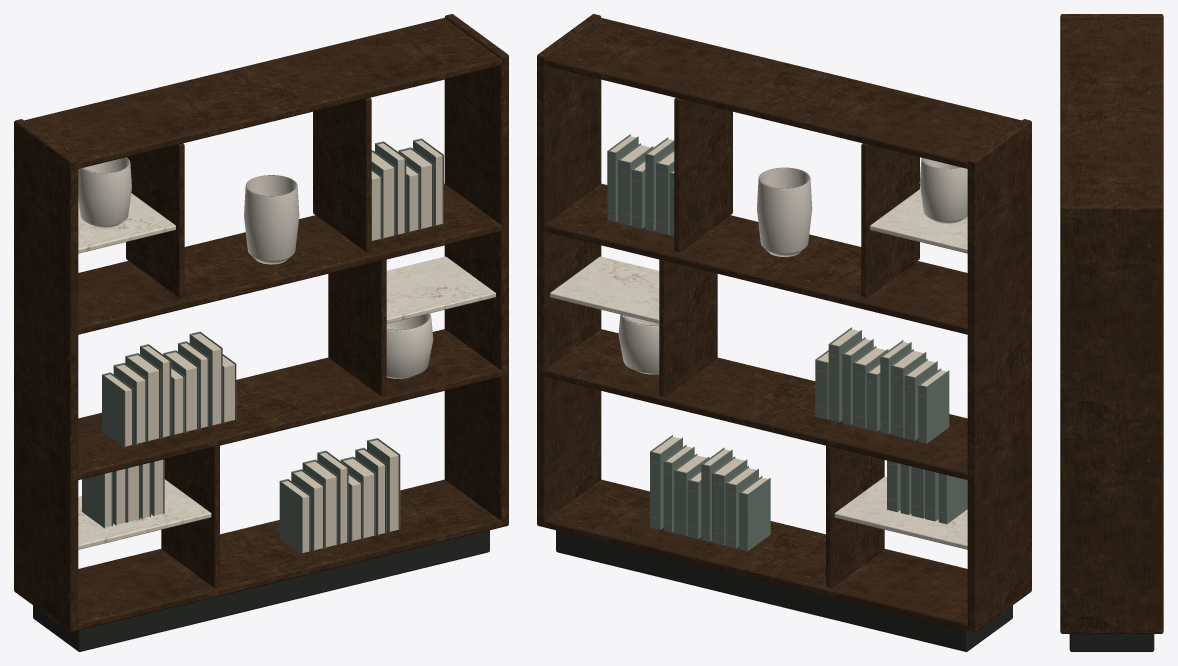
File: atelier-step-bookcase.glb
3 views of the same model, side by side, from view 1: azimuth 30°, elevation 25°; view 2: azimuth 150°, elevation 25°; view 3: azimuth 270°, elevation 25° (orthographic). The views are drawn at different scales.
Visible parts, largest first — view 1: walnut_surfaces, paper_surfaces, binding_surfaces, stone_surfaces, ceramic_surfaces, dark_surfaces; view 2: walnut_surfaces, binding_surfaces, stone_surfaces, dark_surfaces, ceramic_surfaces, paper_surfaces; view 3: walnut_surfaces, dark_surfaces.
Part boxes in pixels (bbox=[...]): walnut_surfaces: bbox=[14, 14, 508, 632]; paper_surfaces: bbox=[105, 140, 442, 552]; binding_surfaces: bbox=[82, 138, 443, 554]; stone_surfaces: bbox=[78, 193, 495, 549]; ceramic_surfaces: bbox=[78, 157, 433, 378]; dark_surfaces: bbox=[33, 530, 489, 651]; walnut_surfaces: bbox=[537, 14, 1031, 632]; binding_surfaces: bbox=[607, 134, 967, 551]; stone_surfaces: bbox=[550, 189, 967, 549]; dark_surfaces: bbox=[556, 530, 1012, 651]; ceramic_surfaces: bbox=[618, 158, 967, 374]; paper_surfaces: bbox=[610, 136, 946, 493]; walnut_surfaces: bbox=[1060, 14, 1163, 633]; dark_surfaces: bbox=[1069, 634, 1154, 651].
Size of the model in its own units: 1.74 by 1.88 by 0.39.
7 materials, 2 textured.
